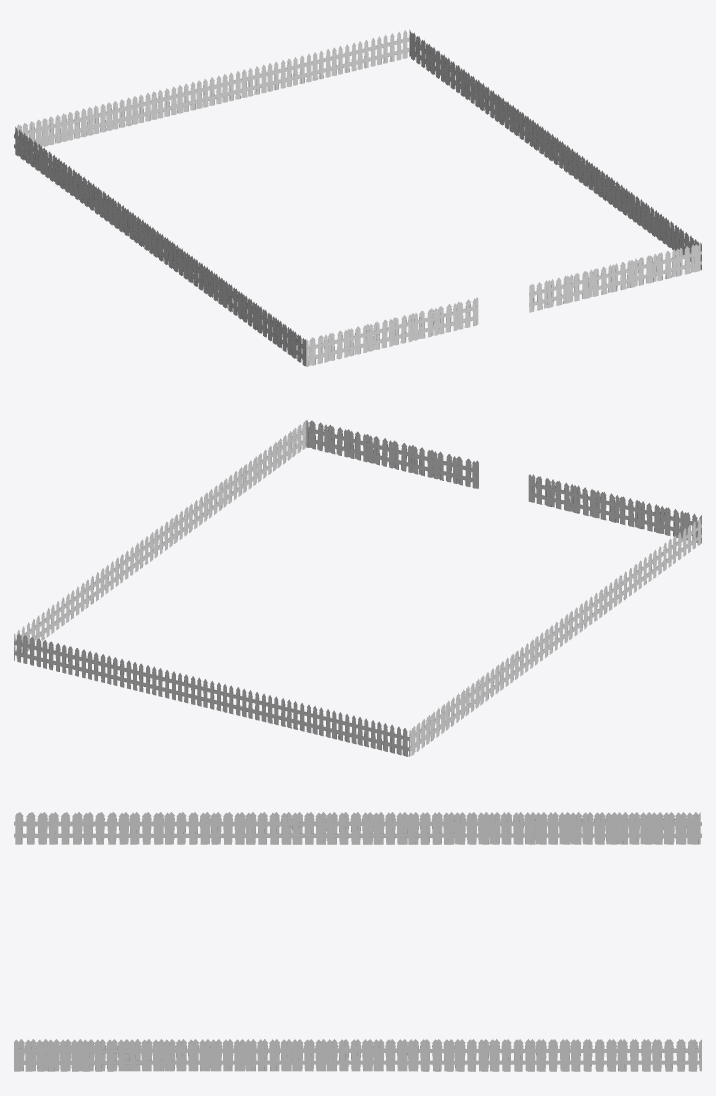
File: house_1_picket.obj
3 renders of one model, top to bottom at view 1: azimuth 30°, elevation 25°; view 2: azimuth 150°, elevation 25°; view 3: azimuth 270°, elevation 25°, orthographic. The views are drawn at different scales.
Parts seen in each view (by area): view 1: Cube; view 2: Cube; view 3: Cube.
Part boxes in pixels (left/top/right/bottom): Cube: left=14, top=29, right=701, bottom=366; Cube: left=14, top=420, right=701, bottom=756; Cube: left=14, top=812, right=701, bottom=1071.
Bounding box in the file's own units: 7.73 × 0.9571 × 9.89.
1 material, 1 textured.
